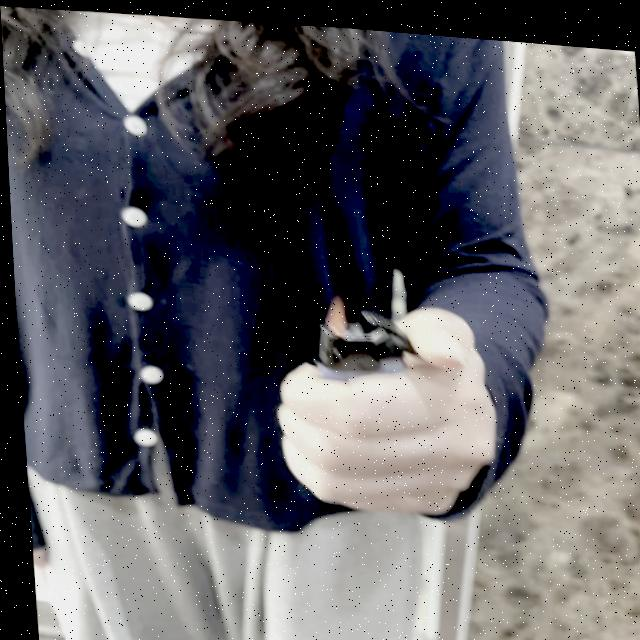Fire: (315, 288, 346, 328)
